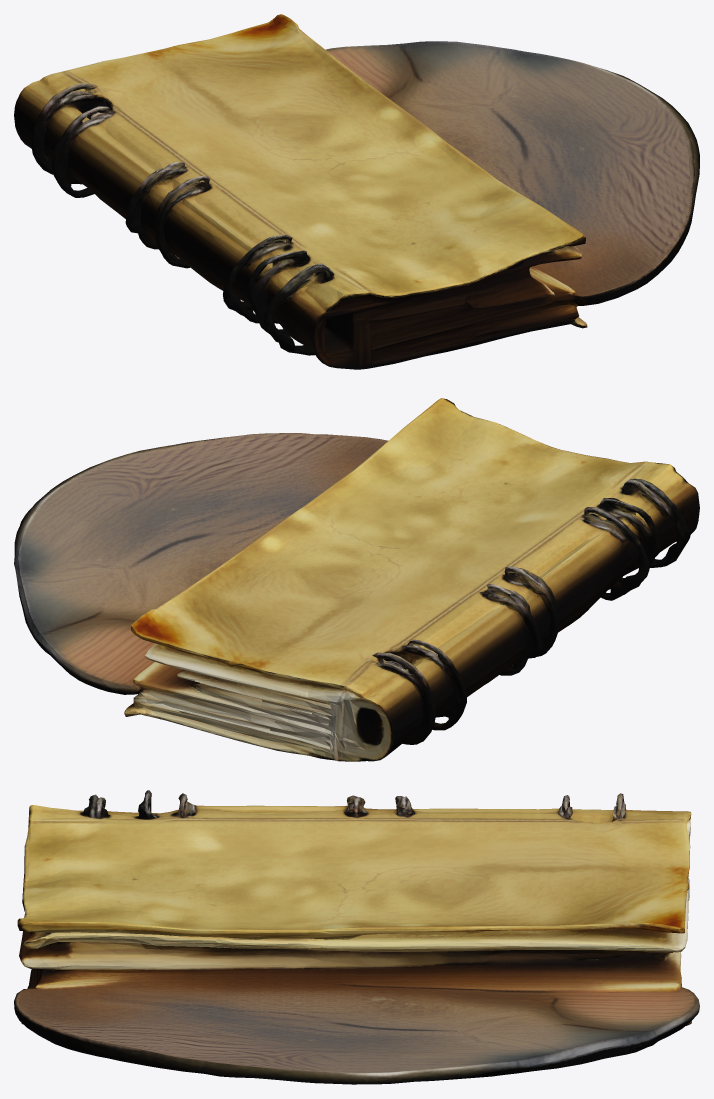
File: recycled-paper-notebook-aged-hyperrealistic-furniture.jpeg.glb
The picture shows the model from 3 angles, top to bottom: view 1: azimuth 30°, elevation 25°; view 2: azimuth 150°, elevation 25°; view 3: azimuth 270°, elevation 25°; orthographic projection. The views are drawn at different scales.
Parts seen in each view (by area): view 1: world; view 2: world; view 3: world.
Part boxes in pixels (left/top/right/bottom): world: left=14, top=14, right=699, bottom=369; world: left=14, top=398, right=699, bottom=761; world: left=14, top=790, right=699, bottom=1084.
Bounding box in the file's own units: 0.9401 × 0.1702 × 0.9987.
1 material, 1 textured.
